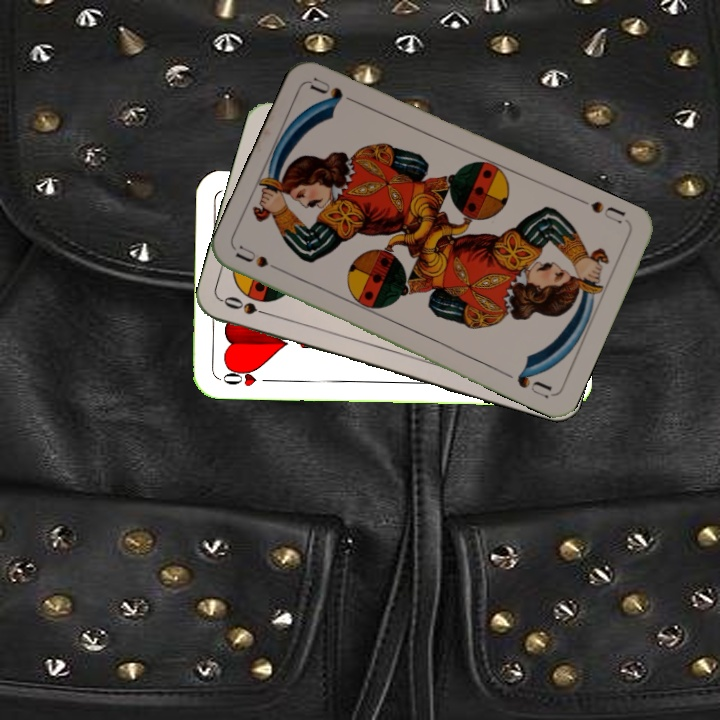HO: (216, 364, 275, 389)
SO: (219, 292, 277, 320)
SU: (232, 242, 290, 277), (586, 196, 629, 227)
